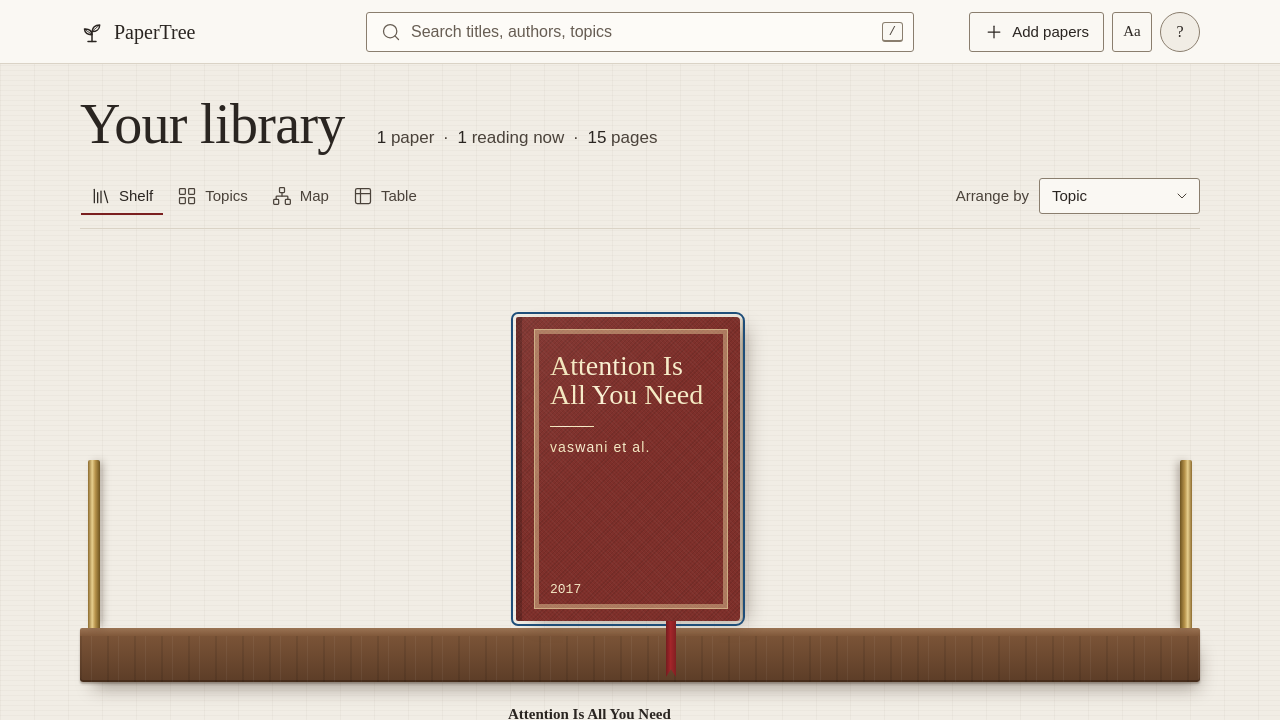
Test: the bookplate › asks once when there is no name, saves the answer, and never uses the email
This screenshot has width=1280, height=720.
Press Enter in the button "Attention Is All You Need Vaswani et al. 2017", box [516,317,740,621]
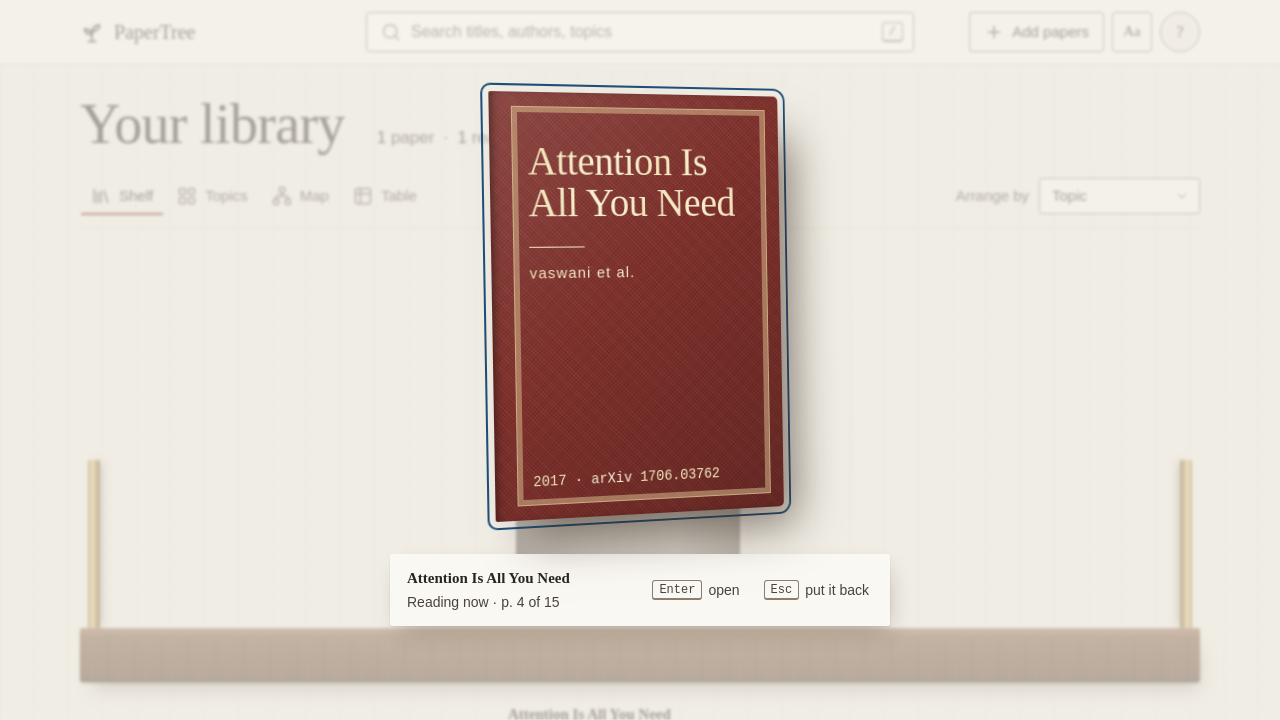
Click the button with aria-label "Open Attention Is All You Need": (636, 307) [488,91,784,522]
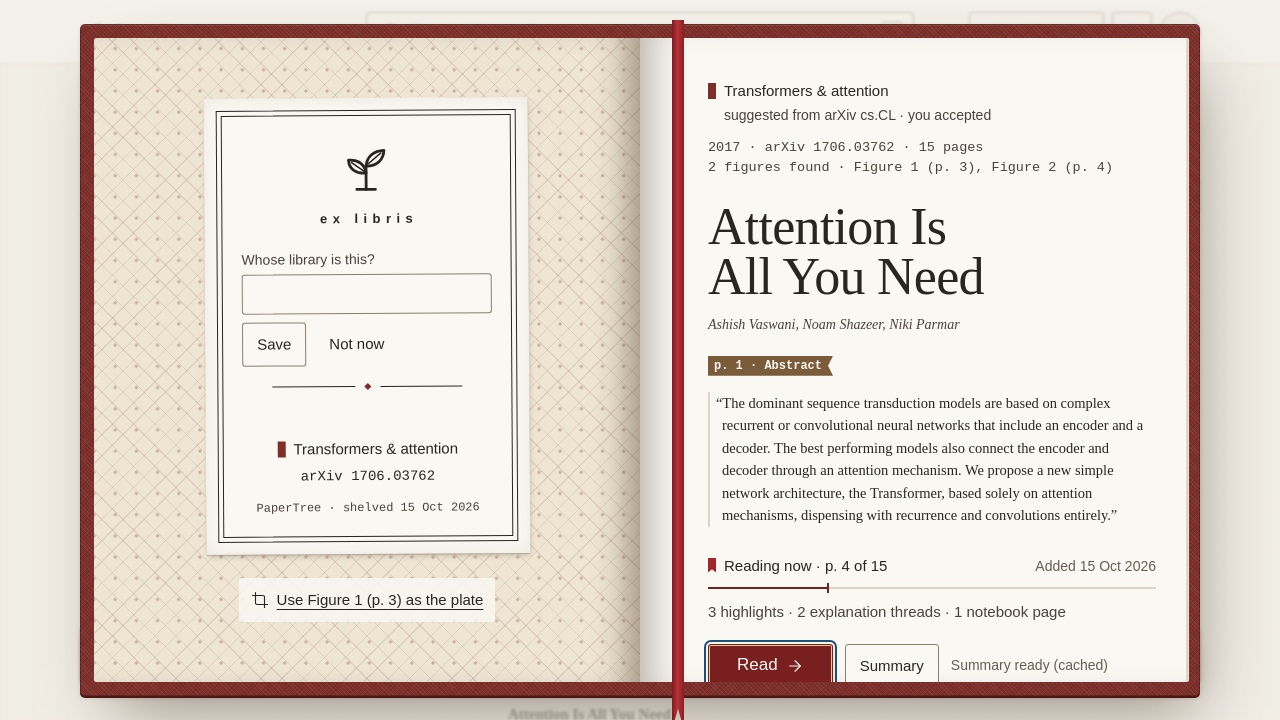
Expected: the dialog named "Attention Is All You Need" has attribute data-book-stage="open"
In the field labelled "Whose library is this?": (367, 294) [242,273,492,315], type "  Mrigesh "
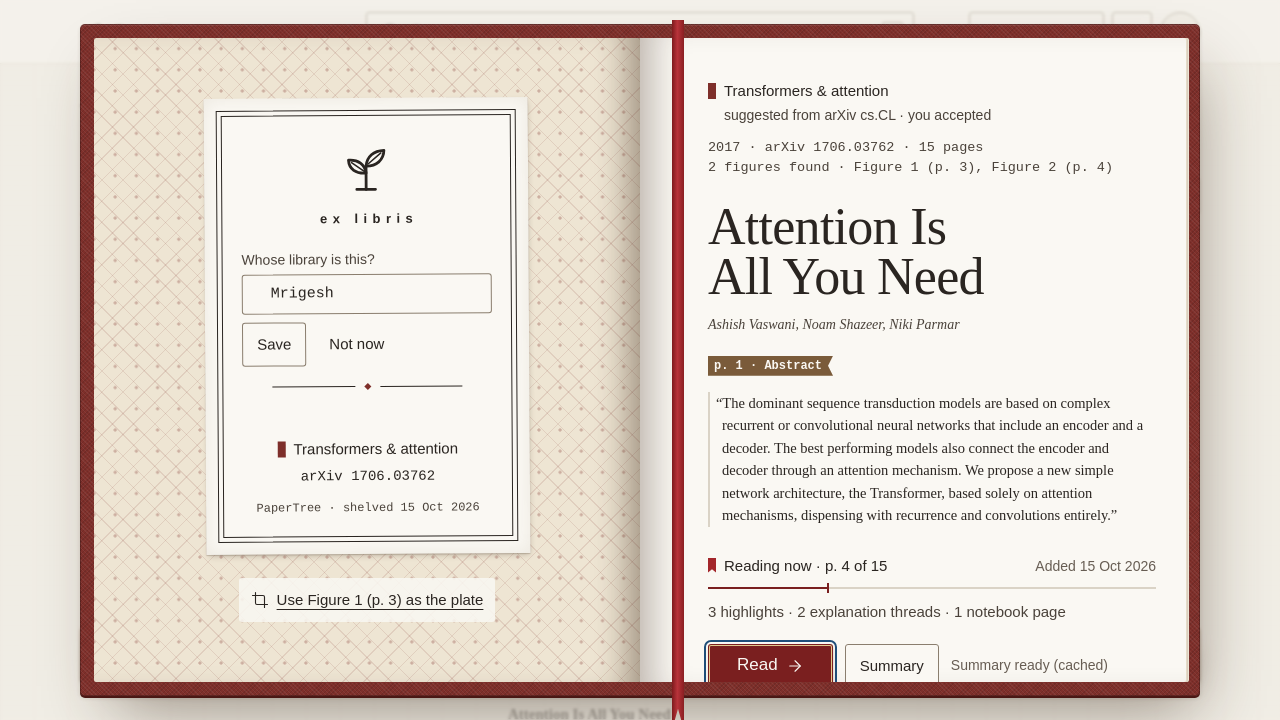
Click the button "Save": (274, 345) [242,322,306,367]
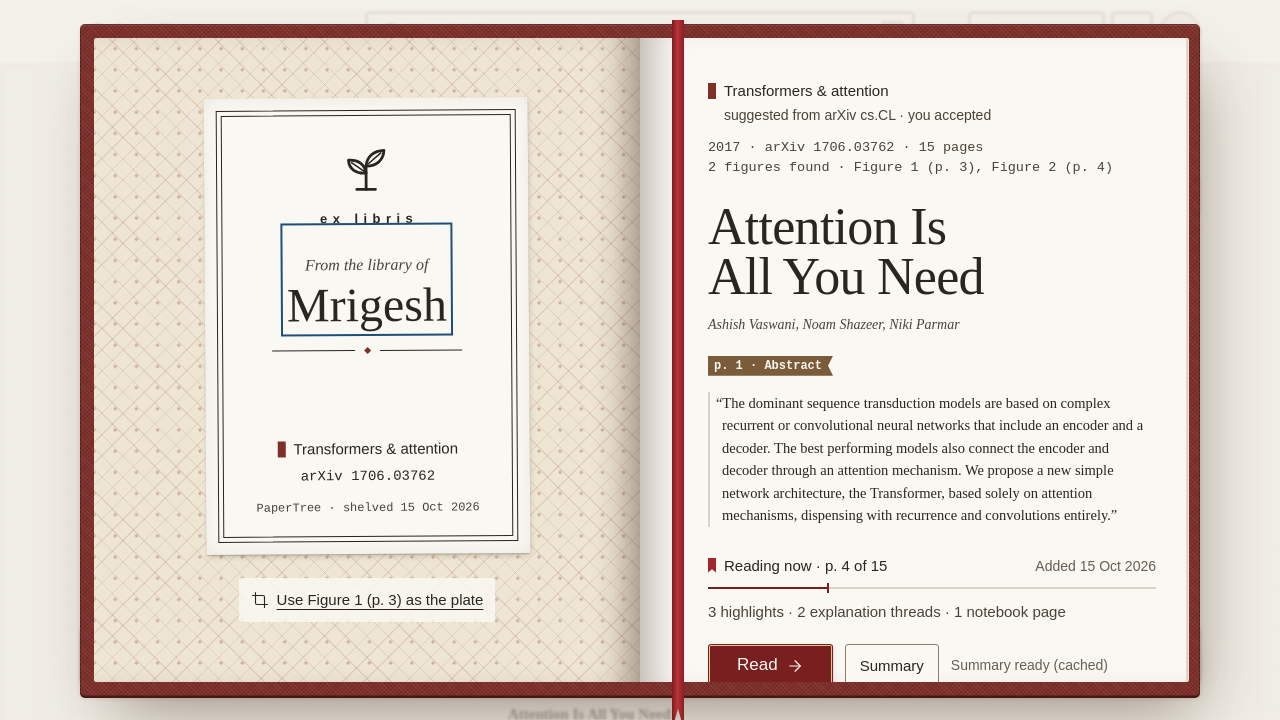
Expected: the label labelled "Whose library is this?" is gone
